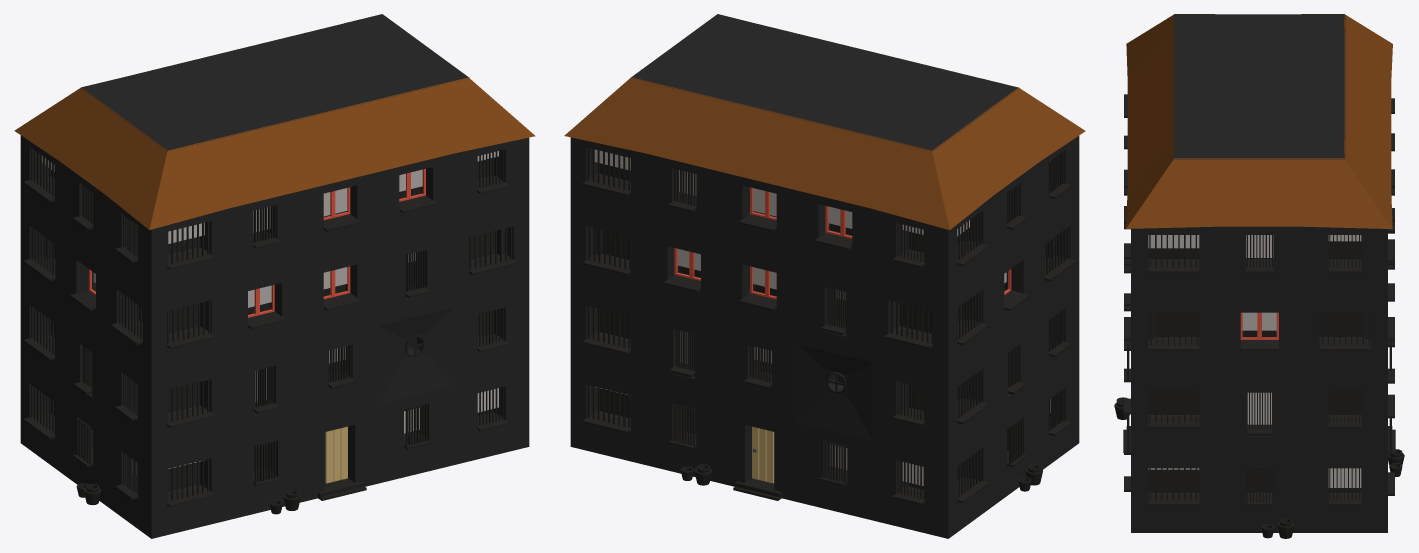
Rendered from CasaProcedural_17.fbx.
The picture shows the model from 3 angles, left to right: view 1: azimuth 30°, elevation 25°; view 2: azimuth 150°, elevation 25°; view 3: azimuth 270°, elevation 25°; orthographic projection.
Visible parts, largest first — view 1: Procedural_Building; view 2: Procedural_Building; view 3: Procedural_Building.
Part boxes in pixels (bbox=[...]): Procedural_Building: bbox=[14, 14, 535, 538]; Procedural_Building: bbox=[564, 14, 1085, 538]; Procedural_Building: bbox=[1114, 14, 1404, 538].
Bounding box in the file's own units: 538 × 459 × 338.
